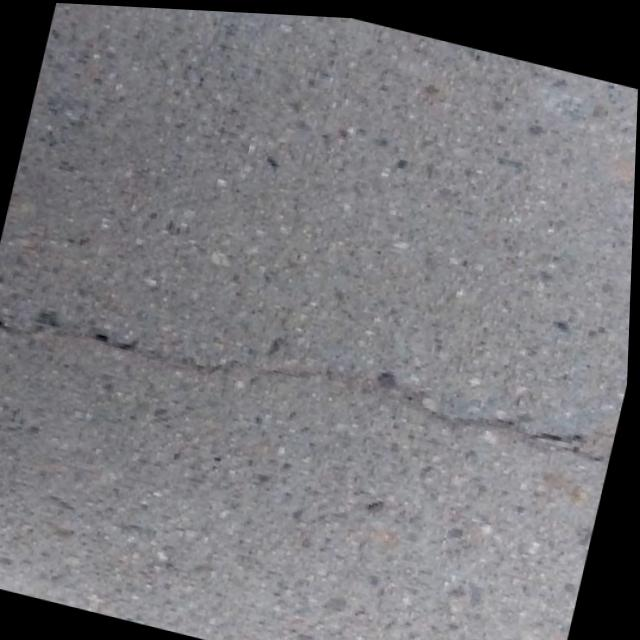Crack: (0, 251, 629, 511)
